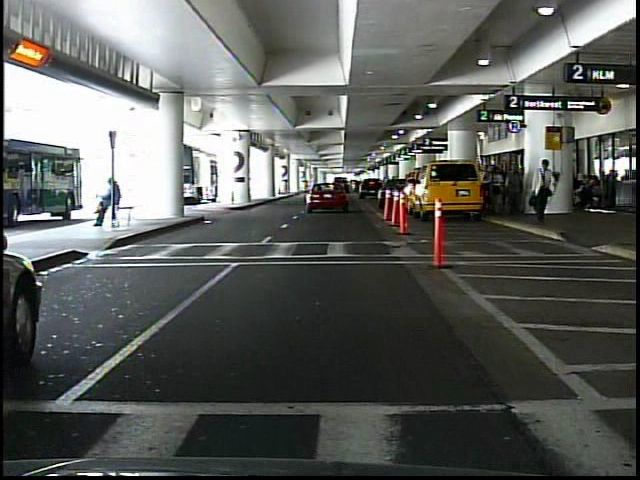person: (528, 158, 557, 220), (507, 163, 526, 219), (490, 166, 505, 213)
